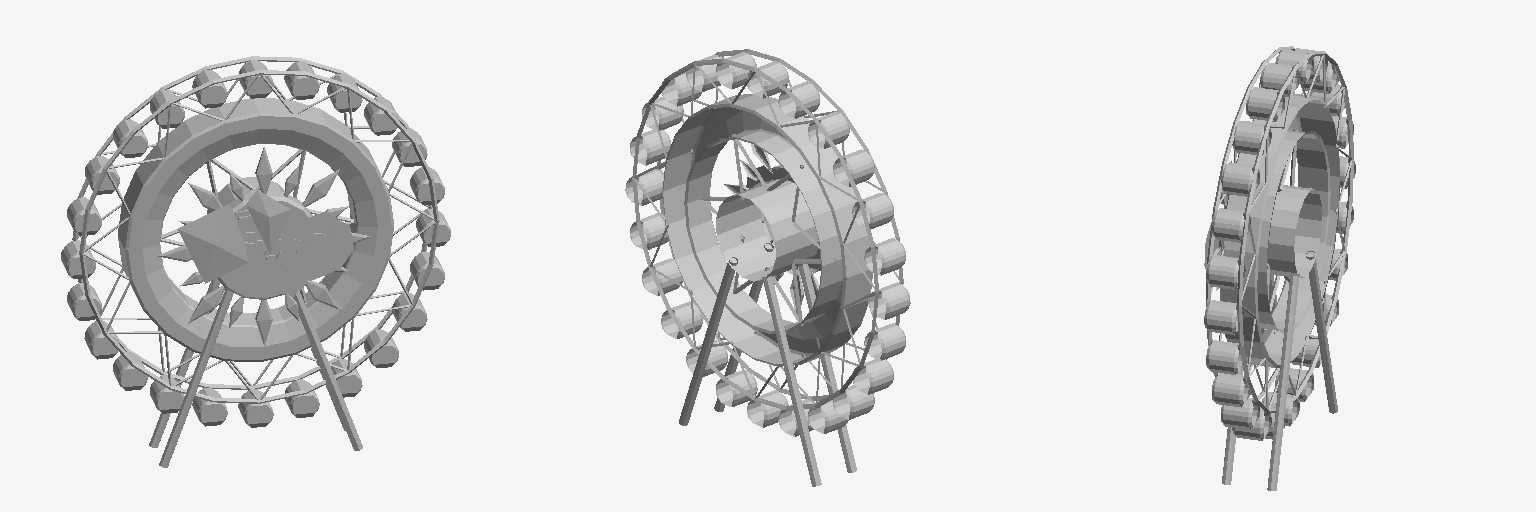
File: stg110_MotWheel_b1_02.obj
3 views of the same model, side by side, from view 1: azimuth 30°, elevation 25°; view 2: azimuth 150°, elevation 25°; view 3: azimuth 270°, elevation 25° (orthographic).
Parts seen in each view (by area): view 1: polygon16, polygon13, polygon15, polygon1, polygon14, polygon7, polygon9, polygon5, polygon12, polygon0, polygon6, polygon4 (+5 smaller); view 2: polygon16, polygon13, polygon8, polygon7, polygon15, polygon14, polygon9; view 3: polygon16, polygon13, polygon15, polygon8, polygon7, polygon14, polygon26, polygon29.
Boxes of the visible parts, x1,y1,x2,y2 form: polygon16: [118, 98, 393, 361]; polygon13: [142, 129, 377, 346]; polygon15: [72, 56, 439, 403]; polygon1: [178, 190, 290, 283]; polygon14: [77, 74, 435, 400]; polygon7: [149, 278, 362, 467]; polygon9: [158, 147, 370, 345]; polygon5: [280, 212, 353, 280]; polygon12: [166, 154, 362, 339]; polygon0: [233, 252, 304, 296]; polygon6: [293, 230, 339, 260]; polygon4: [237, 215, 289, 270]; polygon16: [662, 94, 872, 366]; polygon13: [684, 111, 842, 339]; polygon8: [716, 178, 818, 281]; polygon7: [679, 243, 856, 486]; polygon15: [632, 49, 903, 410]; polygon14: [634, 56, 899, 404]; polygon9: [724, 144, 820, 313]; polygon16: [1220, 93, 1339, 367]; polygon13: [1257, 125, 1330, 334]; polygon15: [1206, 46, 1353, 413]; polygon8: [1267, 185, 1321, 278]; polygon7: [1222, 251, 1337, 490]; polygon14: [1211, 55, 1351, 409]; polygon26: [1223, 400, 1257, 426]; polygon29: [1214, 377, 1248, 403].
Size of the model in its own units: 939 by 1044 by 372.